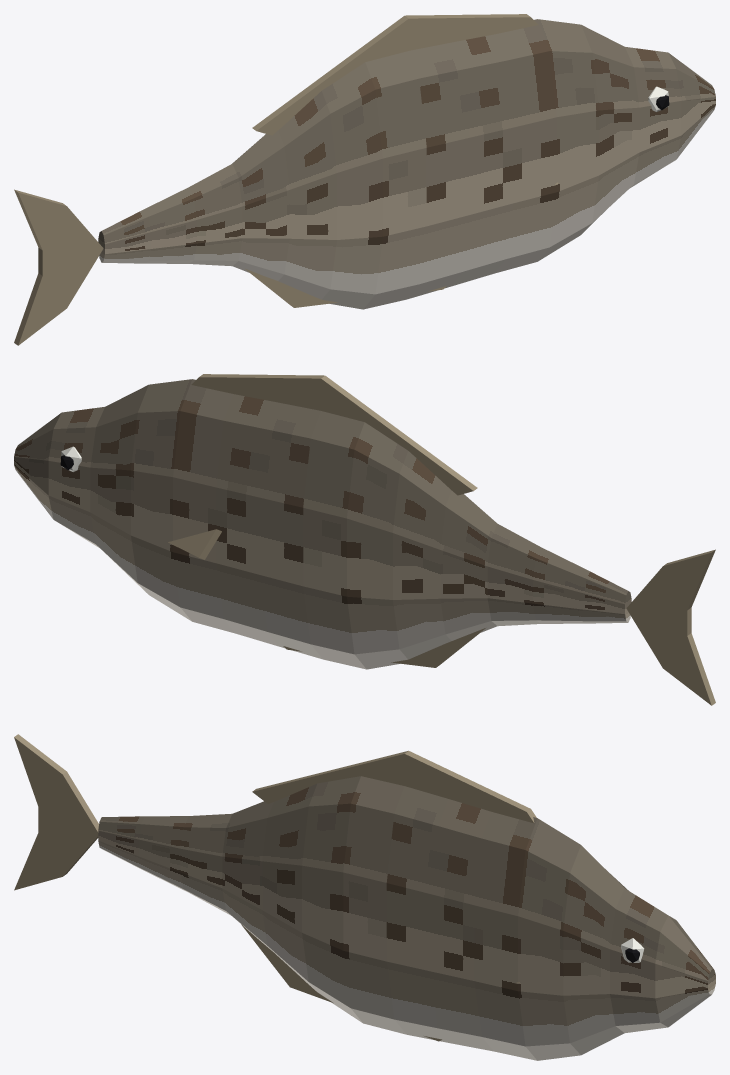
Rendered from grunter_bream.glb.
3 views of the same model, one above another, from view 1: azimuth 30°, elevation 25°; view 2: azimuth 150°, elevation 25°; view 3: azimuth 330°, elevation 25° (orthographic).
Visible parts, largest first — view 1: fish_grunter_bream; view 2: fish_grunter_bream; view 3: fish_grunter_bream.
Boxes of the visible parts, x1,y1,x2,y2 form: fish_grunter_bream: [14, 14, 715, 345]; fish_grunter_bream: [14, 374, 715, 705]; fish_grunter_bream: [14, 734, 715, 1060].
Bounding box in the file's own units: 1.14 × 0.4423 × 0.1417.
Materials: 4 (1 with a texture image).
